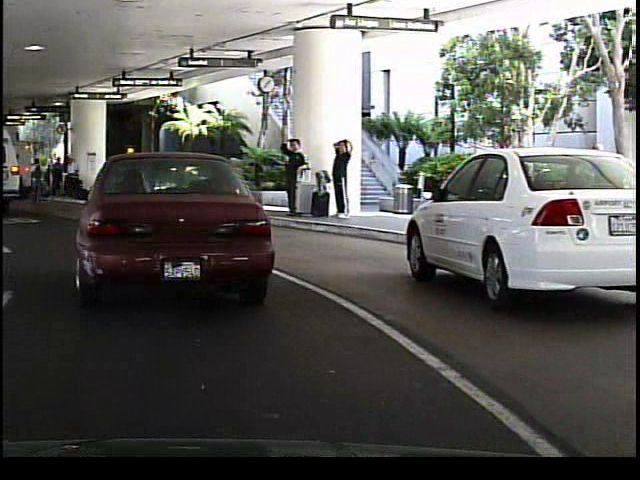person: (327, 135, 352, 220), (278, 133, 300, 217), (319, 149, 341, 216), (165, 154, 184, 195)
